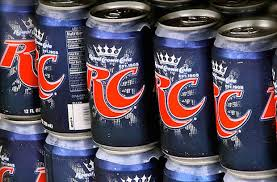can: (86, 11, 155, 150), (159, 12, 219, 161), (220, 20, 277, 164), (33, 7, 89, 139)
